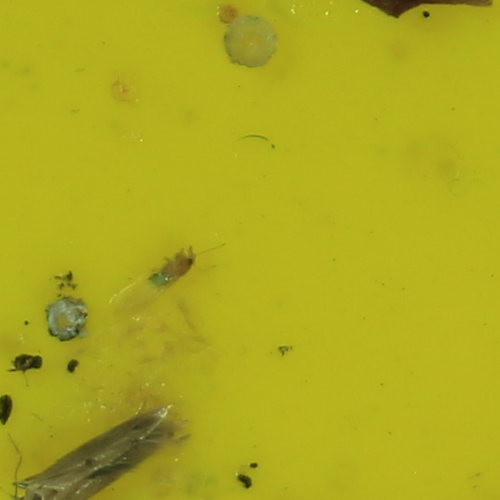psylla: (147, 244, 201, 290)
